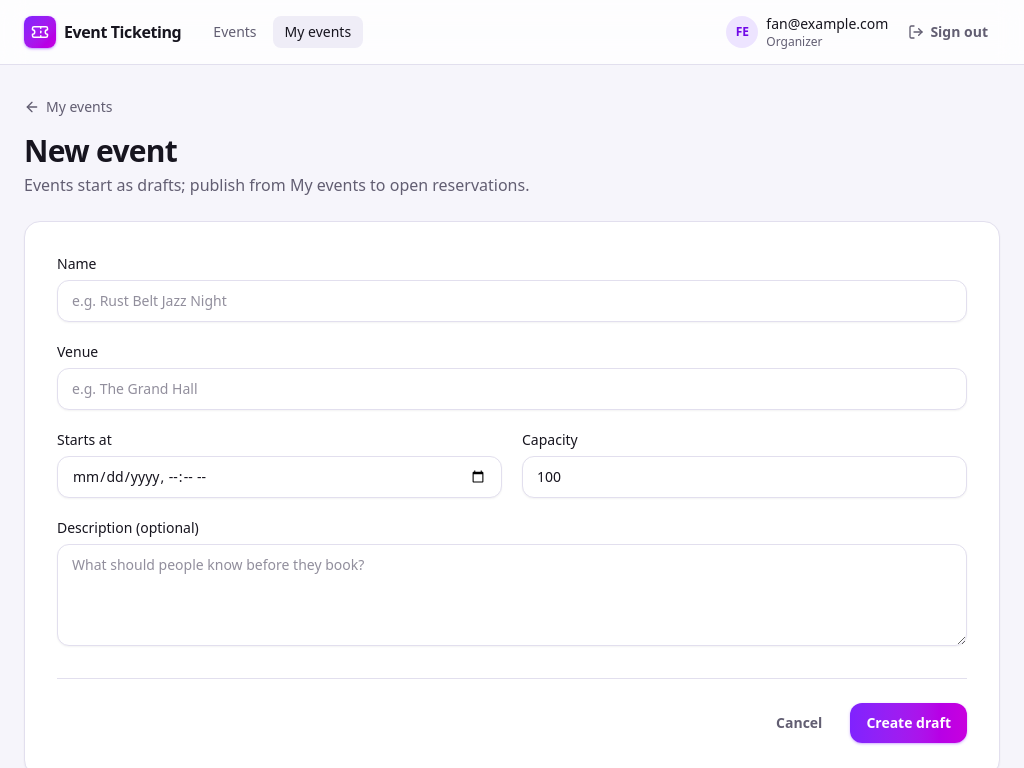
Scenario: CreateEventPage › creates a draft and returns to My events
The width and height of the screenshot is (1024, 768).
In the field labelled "Name": (512,301) [57,280,967,322], type "Poetry Slam"
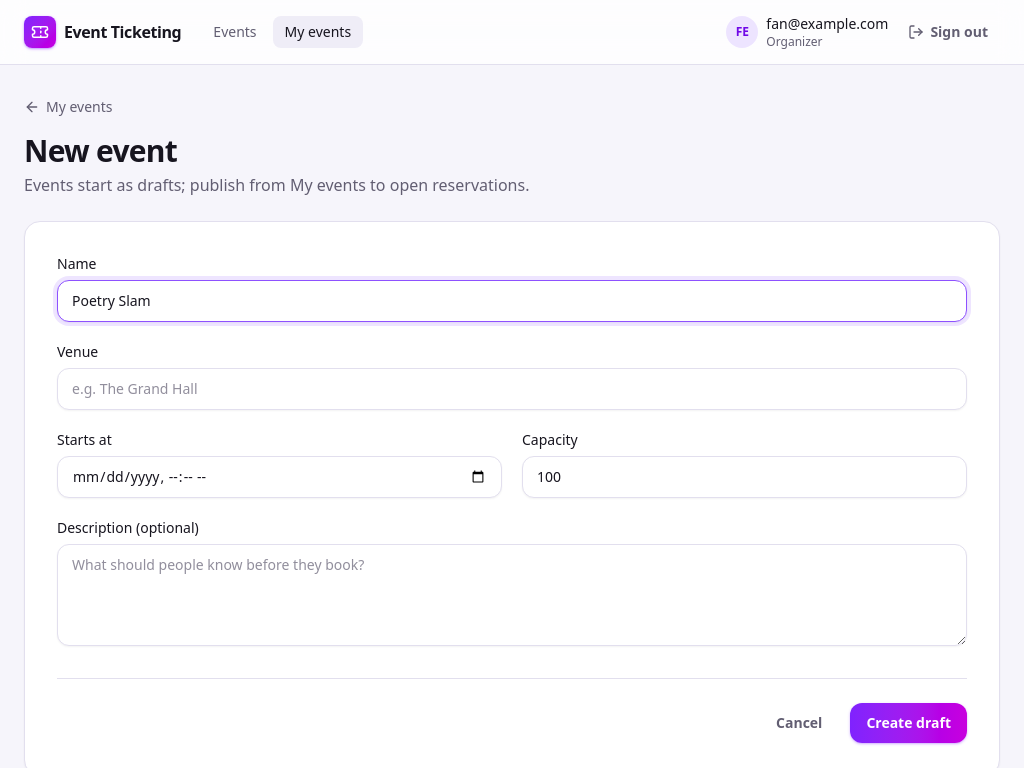
In the field labelled "Venue": (512,389) [57,368,967,410], type "Library"
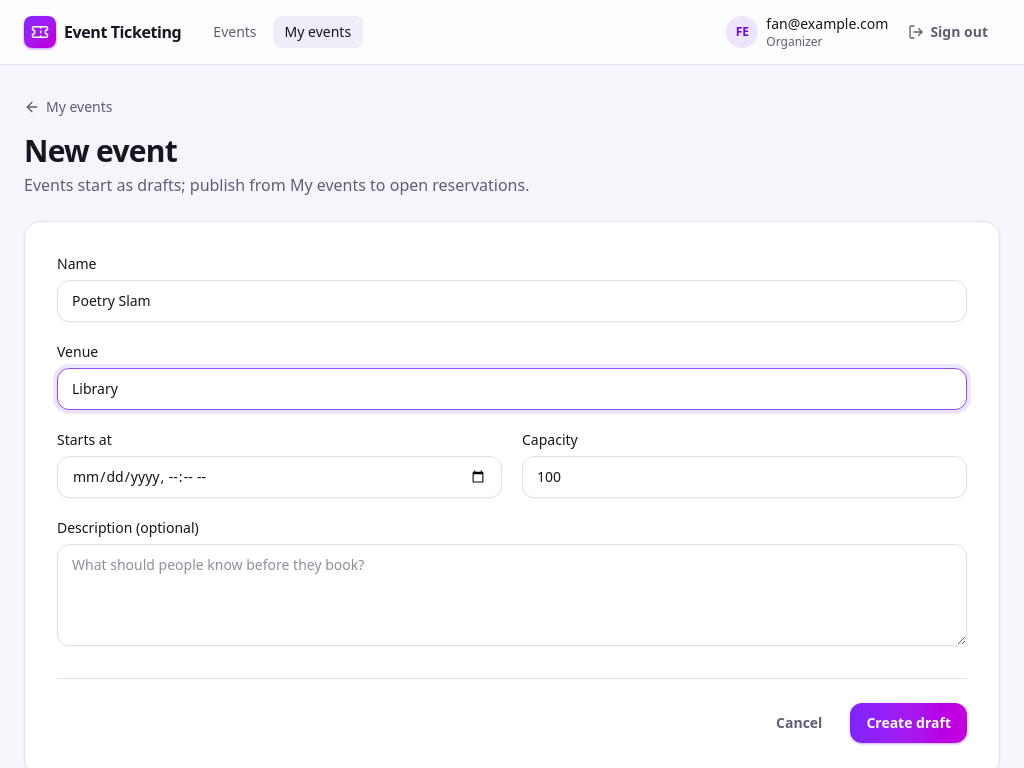
In the field labelled "Starts at": (280,477) [57,456,502,498], type "2030-05-01T19:00"
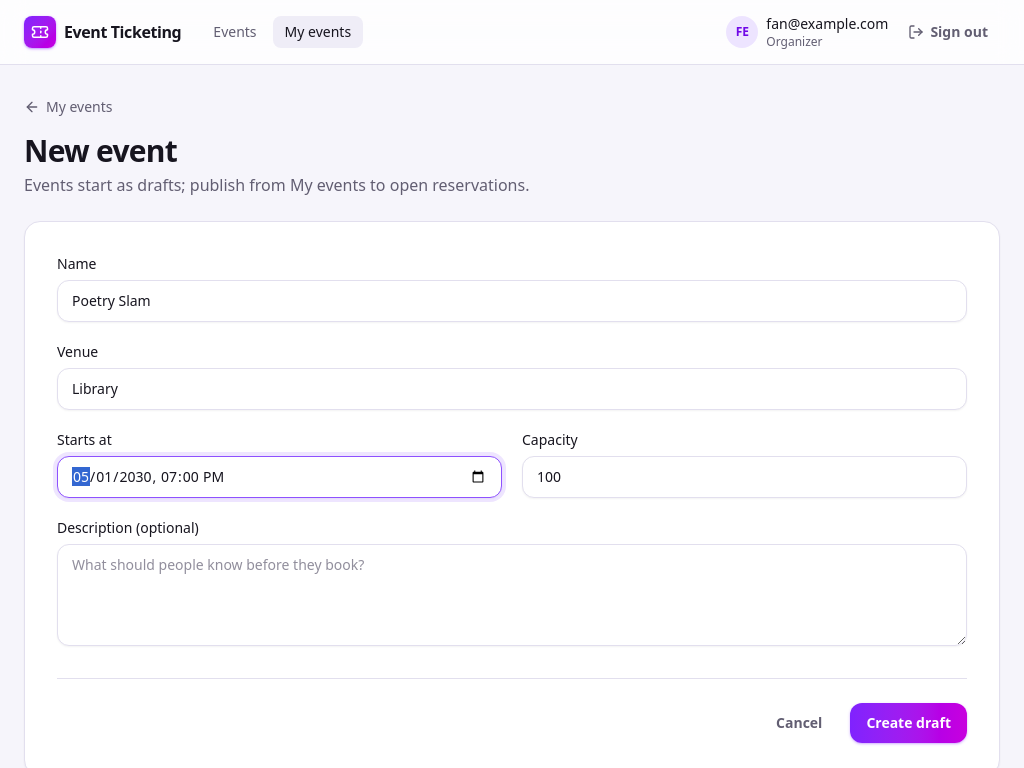
Click the button "Create draft": (909,723) [850,703,967,743]
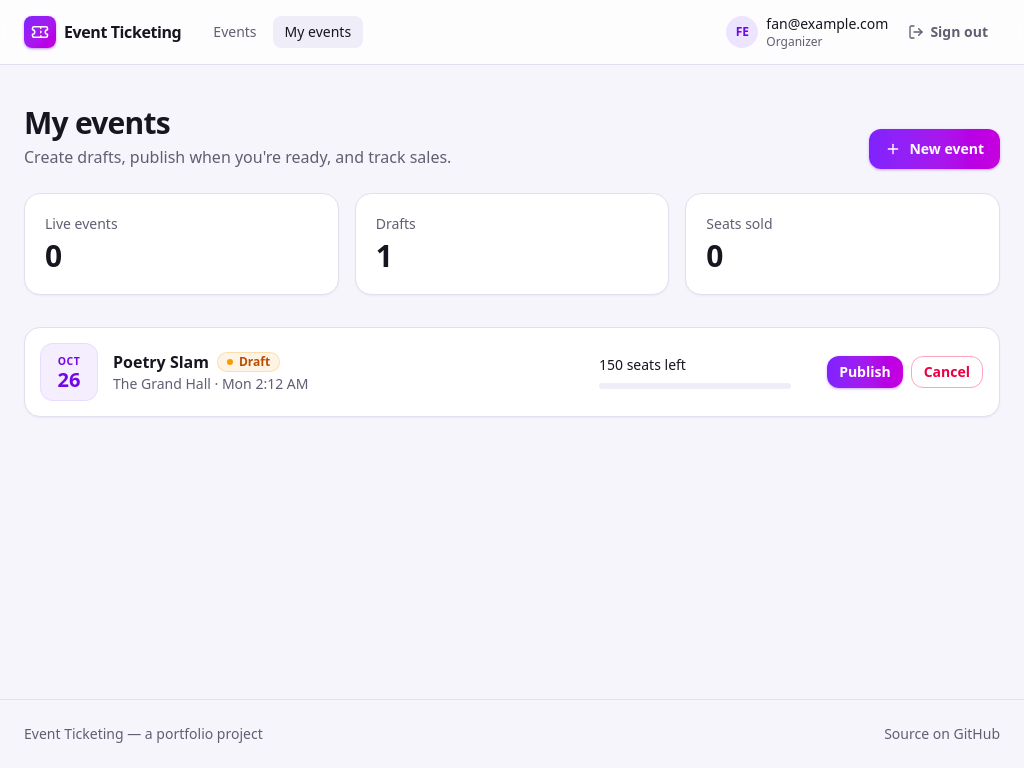
Expected: the heading "My events" is shown, [24,102,170,143]
Expected: the text "Draft" is shown, [217,352,280,372]
